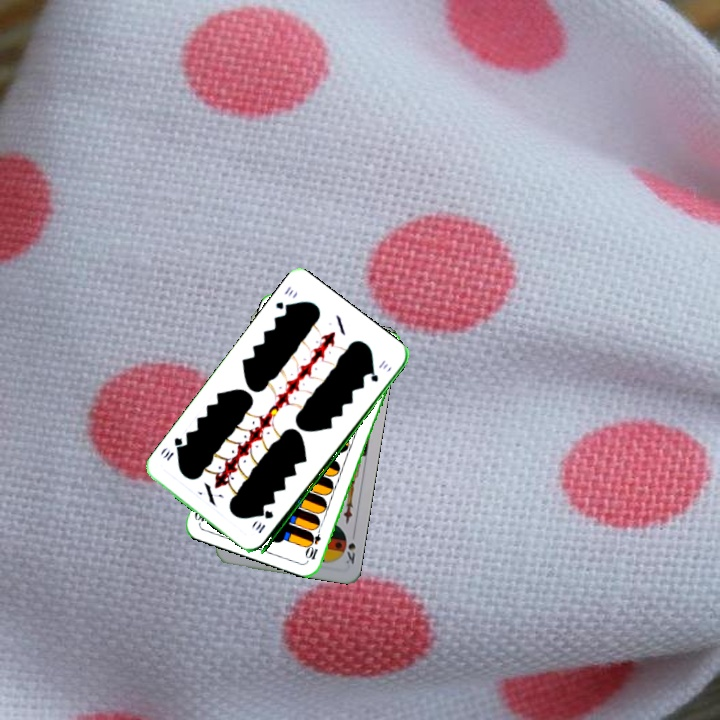E10: (303, 522, 324, 562)
G10: (272, 282, 296, 315), (251, 507, 276, 536)
SK: (342, 528, 358, 567)
